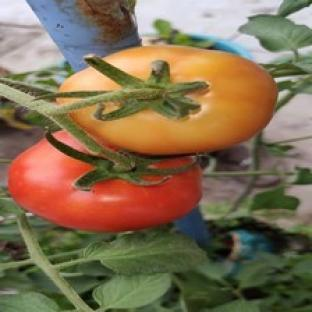Tomato: (72, 46, 277, 154), (9, 140, 201, 232)
